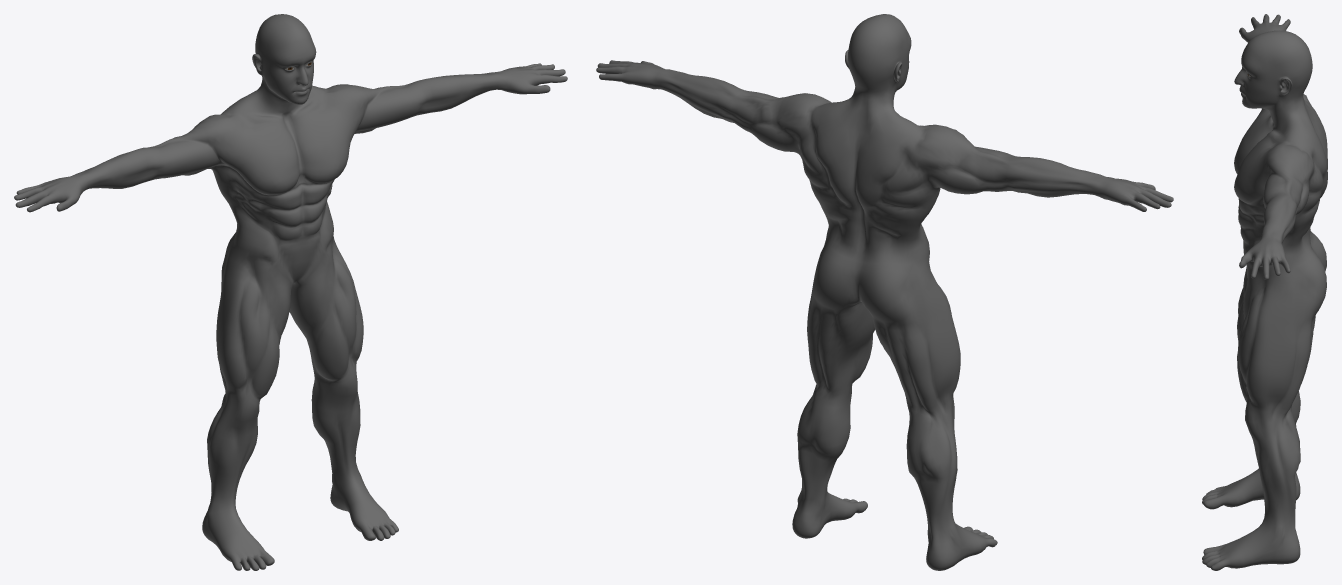
File: muscle_figure.glb
The picture shows the model from 3 angles, left to right: view 1: azimuth 30°, elevation 25°; view 2: azimuth 150°, elevation 25°; view 3: azimuth 270°, elevation 25°; orthographic projection. The views are drawn at different scales.
Visible parts, largest first — view 1: body_low; view 2: body_low; view 3: body_low.
Part boxes in pixels (box(x1,y1,x2,y2)): body_low: box(14, 14, 567, 570); body_low: box(596, 14, 1173, 570); body_low: box(1202, 14, 1327, 570).
Size of the model in its own units: 19.94 by 17.71 by 4.04.
3 materials, 1 textured.
